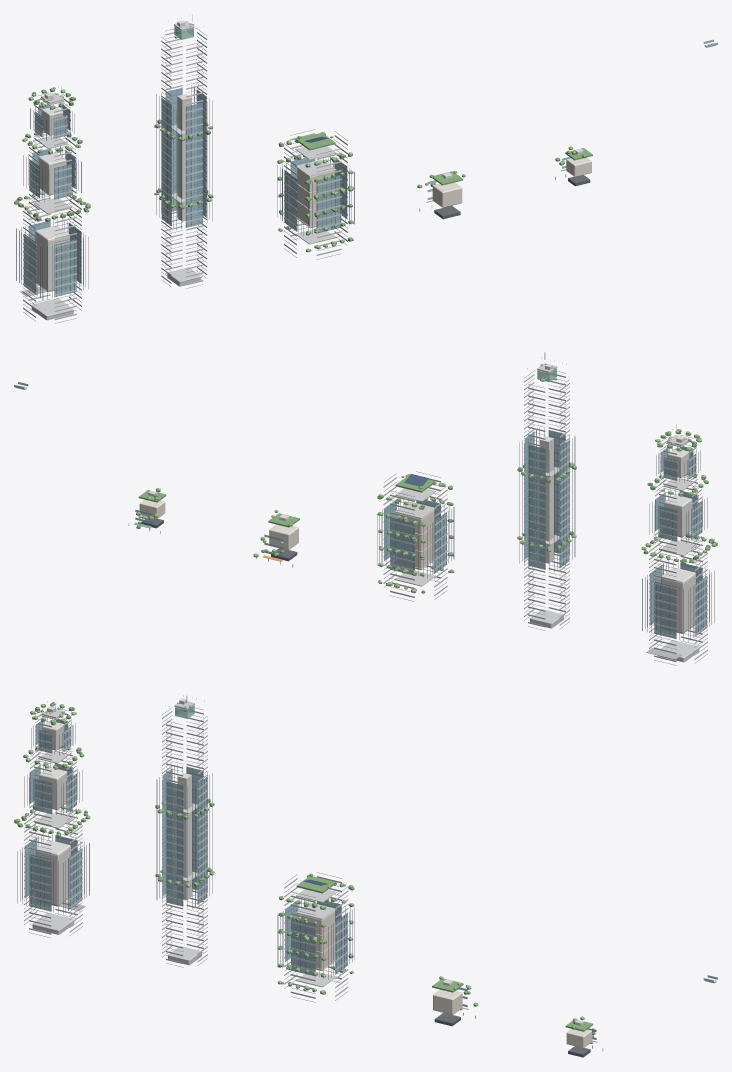
The model's file is city_kit.glb.
3 views of the same model, one above another, from view 1: azimuth 30°, elevation 25°; view 2: azimuth 150°, elevation 25°; view 3: azimuth 330°, elevation 25° (orthographic).
Parts seen in each view (by area): view 1: glass.013, corner.001, glass.015, glass.001, glass.017, core, body.001, glass.012, corner.002, body.002, glass.003, glass.019 (+3 smaller); view 2: glass.012, corner.001, glass, core, glass.015, glass.016, body.001, glass.013, corner.002, glass.014, glass.003, glass.019 (+2 smaller); view 3: glass.013, corner.001, glass.001, core, glass.014, glass.017, body.001, glass.012, corner.002, glass.002, glass.015, body.002 (+2 smaller).
Part boxes in pixels (x1,y1,x2,y2): glass.013: (185, 102, 202, 227); corner.001: (35, 225, 69, 292); glass.015: (161, 98, 171, 226); glass.001: (54, 239, 76, 297); glass.017: (316, 175, 341, 232); core: (177, 94, 191, 221); body.001: (297, 168, 334, 228); glass.012: (165, 87, 182, 211); corner.002: (38, 152, 66, 195); body.002: (432, 182, 462, 207); glass.003: (23, 233, 36, 294); glass.019: (284, 170, 297, 231); glass.012: (528, 444, 545, 569); corner.001: (661, 567, 695, 633); glass: (654, 581, 676, 638); core: (540, 436, 553, 563); glass.015: (559, 440, 568, 568); glass.016: (390, 517, 414, 574); body.001: (397, 510, 434, 570); glass.013: (548, 430, 565, 553); corner.002: (664, 494, 692, 537); glass.014: (524, 431, 534, 559); glass.003: (694, 575, 707, 636); glass.019: (434, 512, 446, 573); glass.013: (166, 781, 183, 906); corner.001: (36, 840, 70, 906); glass.001: (29, 854, 51, 911); core: (178, 773, 191, 900); glass.014: (197, 777, 206, 904); glass.017: (291, 918, 315, 975); body.001: (297, 911, 334, 970); glass.012: (186, 766, 203, 890); corner.002: (39, 767, 67, 809); glass.002: (69, 848, 82, 909); glass.015: (162, 768, 172, 896); body.002: (433, 989, 462, 1014).
Bounding box in the file's own units: 136 × 50.26 × 11.94.
